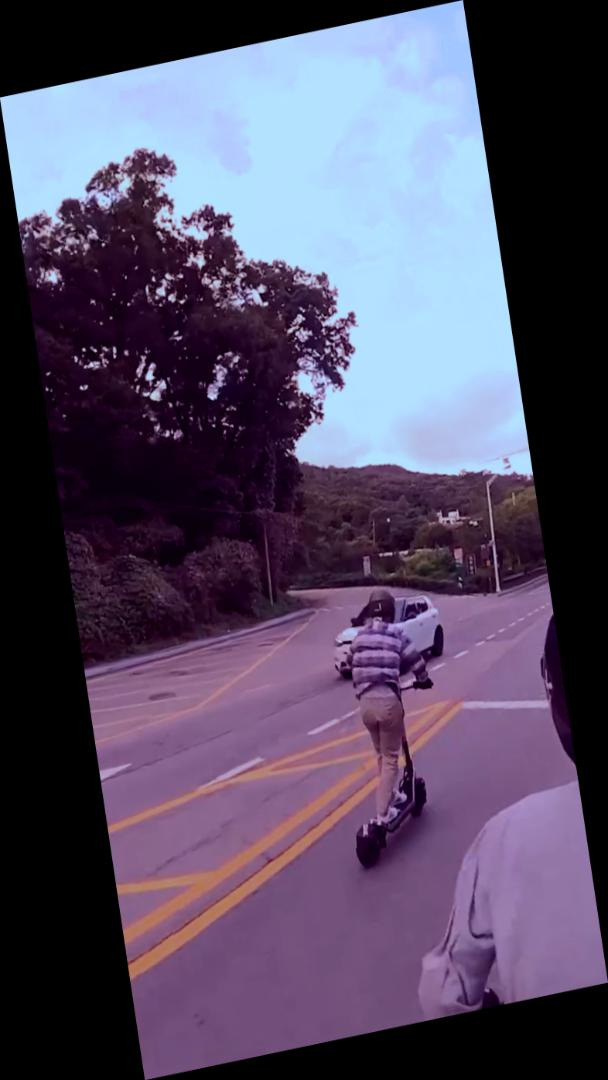helmet: (316, 581, 458, 872)
